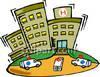car: (70, 53, 92, 68), (19, 56, 43, 69), (53, 55, 64, 71)
